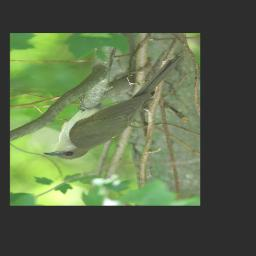Cuckoo: (42, 52, 185, 160)
